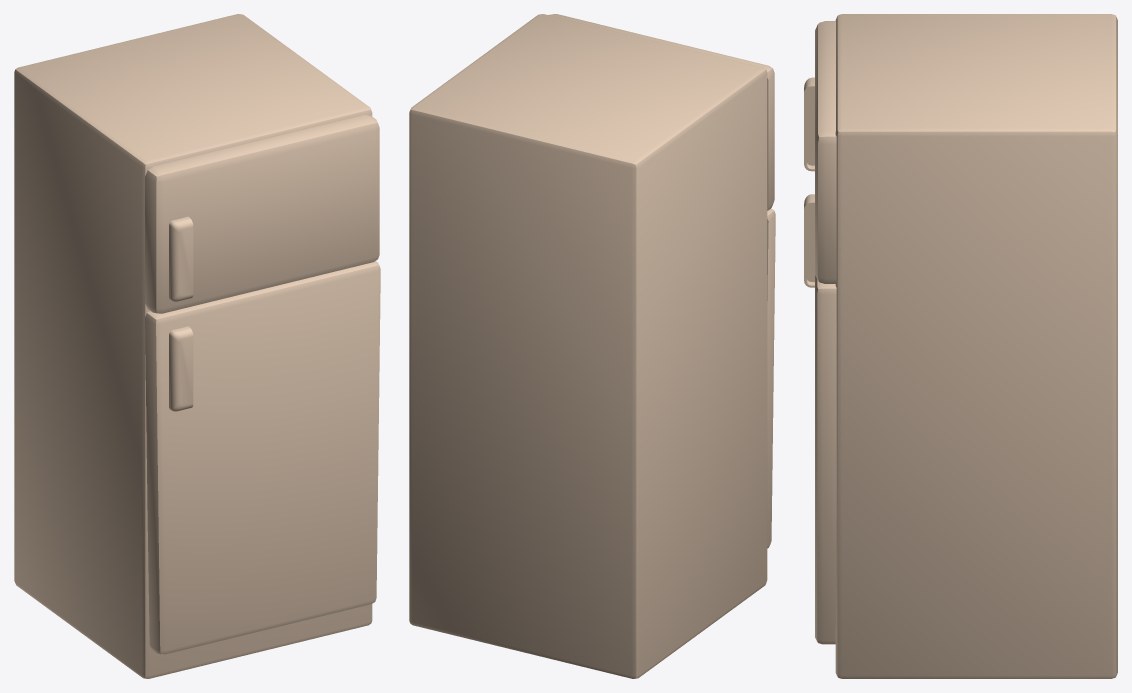
File: Fridge.fbx
The picture shows the model from 3 angles, left to right: view 1: azimuth 30°, elevation 25°; view 2: azimuth 150°, elevation 25°; view 3: azimuth 270°, elevation 25°; orthographic projection. The views are drawn at different scales.
Visible parts, largest first — view 1: Fridge; view 2: Fridge; view 3: Fridge.
Part boxes in pixels (left/top/right/bottom): Fridge: left=14, top=14, right=380, bottom=678; Fridge: left=409, top=14, right=775, bottom=678; Fridge: left=804, top=14, right=1117, bottom=678.
Bounding box in the file's own units: 86.98 × 187 × 96.7.
